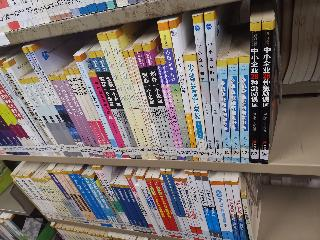book-spine: (22, 47, 88, 160), (27, 46, 90, 160), (96, 31, 148, 164), (106, 30, 156, 163), (1, 60, 65, 159), (72, 53, 123, 161), (88, 49, 137, 161), (1, 67, 61, 158), (94, 49, 142, 162), (156, 21, 194, 162), (23, 75, 77, 161), (133, 44, 172, 162), (31, 75, 83, 160), (141, 43, 178, 162), (167, 19, 198, 161), (122, 50, 161, 161), (18, 76, 70, 159), (67, 68, 114, 159), (72, 66, 117, 161), (126, 49, 164, 161), (46, 74, 94, 159), (64, 69, 109, 159), (53, 74, 100, 160), (58, 73, 104, 159), (88, 70, 130, 162), (193, 14, 216, 162), (181, 53, 209, 163), (154, 55, 182, 161), (256, 20, 275, 166), (160, 56, 186, 161), (204, 14, 222, 161), (248, 20, 260, 163), (227, 57, 241, 163), (237, 55, 250, 164), (218, 59, 231, 162)
